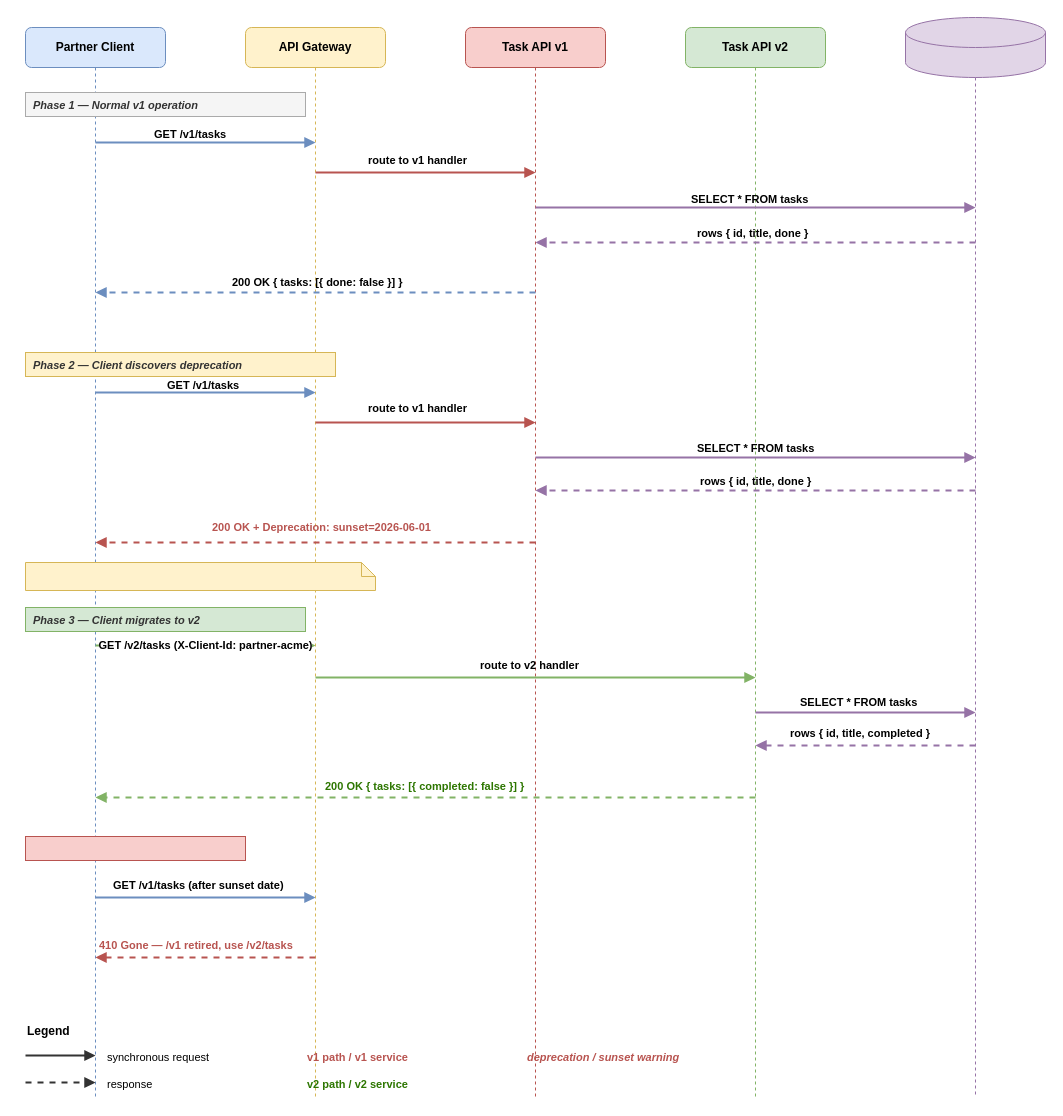
This 1063x1116 diagram has some shape labels left out. Here are the shapes that lost their labels. From the top down, the box of each, then its label:
(904, 16, 1046, 78): Task Store (DB)
(24, 562, 376, 590): ⚠ Client logs: v1 sunsets 2026-06-01 — begin migration
(24, 836, 246, 860): Phase 4 — v1 sunset
